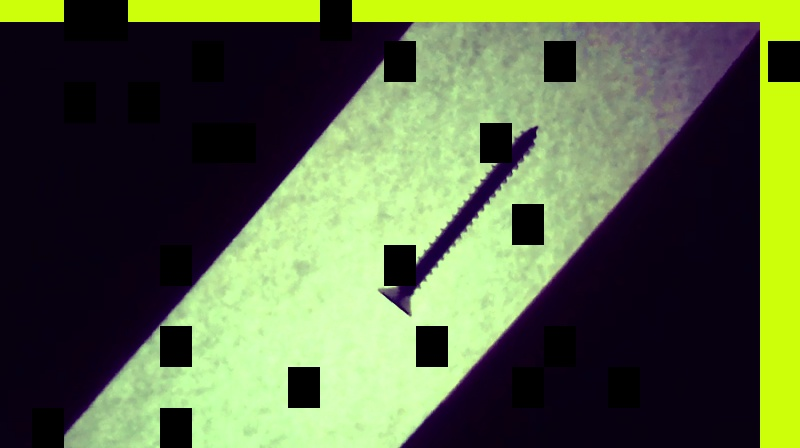S002: (371, 119, 543, 318)
